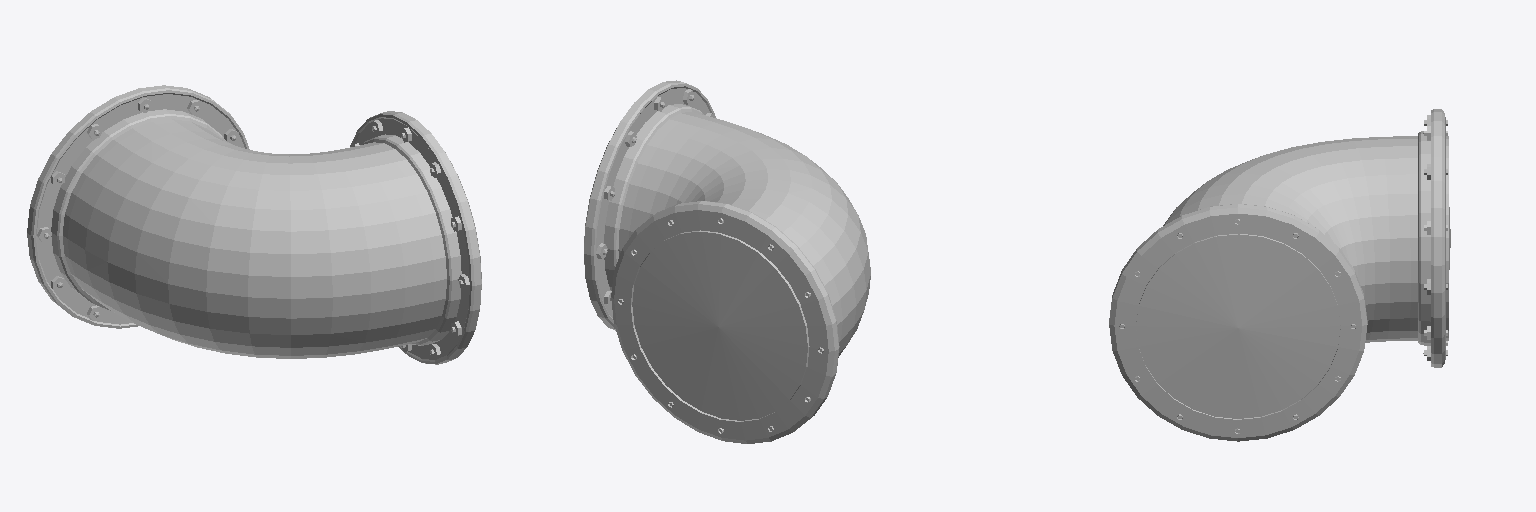
Rendered from pipe_turn.obj.
The picture shows the model from 3 angles: view 1: azimuth 30°, elevation 25°; view 2: azimuth 150°, elevation 25°; view 3: azimuth 270°, elevation 25°; orthographic projection.
Visible parts, largest first — view 1: ind_pipe_large_01_corner_02_inst_001_Mesh.024; view 2: ind_pipe_large_01_corner_02_inst_001_Mesh.024; view 3: ind_pipe_large_01_corner_02_inst_001_Mesh.024.
Part boxes in pixels (left/top/right/bottom): ind_pipe_large_01_corner_02_inst_001_Mesh.024: left=27, top=85, right=481, bottom=364; ind_pipe_large_01_corner_02_inst_001_Mesh.024: left=584, top=80, right=870, bottom=443; ind_pipe_large_01_corner_02_inst_001_Mesh.024: left=1109, top=109, right=1450, bottom=441.
Bounding box in the file's own units: 0.8136 × 0.6153 × 0.8136.